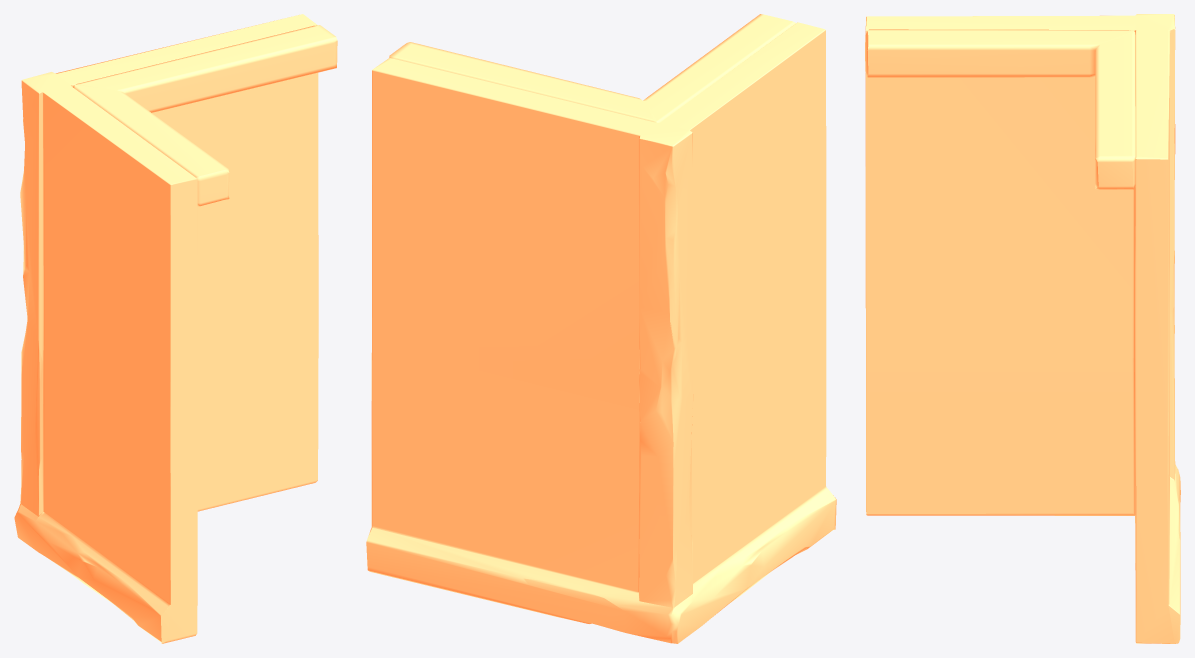
File: SM_Cabin_Wall03.fbx
The picture shows the model from 3 angles, left to right: view 1: azimuth 30°, elevation 25°; view 2: azimuth 150°, elevation 25°; view 3: azimuth 270°, elevation 25°; orthographic projection. The views are drawn at different scales.
Parts seen in each view (by area): view 1: SM_Cabin_Wall03_LOD0; view 2: SM_Cabin_Wall03_LOD0; view 3: SM_Cabin_Wall03_LOD0.
Boxes of the visible parts, box(x1,y1,x2,y2) form: SM_Cabin_Wall03_LOD0: box(14, 14, 337, 643); SM_Cabin_Wall03_LOD0: box(366, 14, 836, 643); SM_Cabin_Wall03_LOD0: box(865, 14, 1180, 643).
Bounding box in the file's own units: 203 × 182 × 311.
